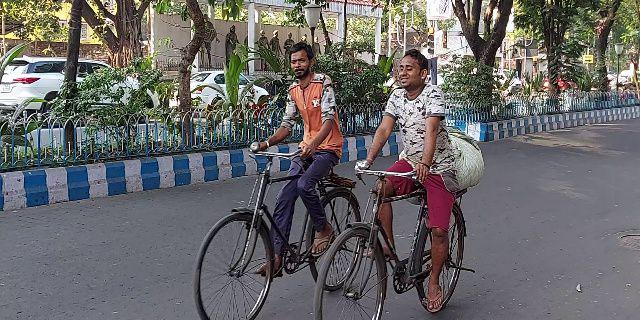Cycle: (187, 37, 364, 320), (308, 50, 488, 320)
